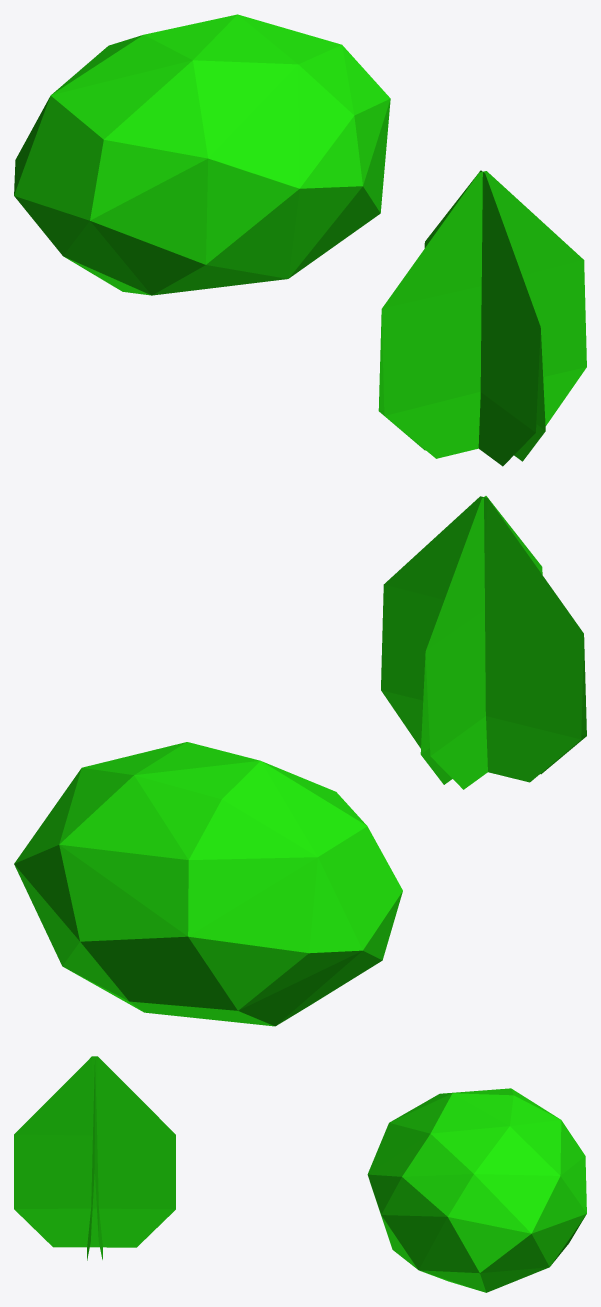
Rendered from buisson.fbx.
3 renders of one model, top to bottom at view 1: azimuth 30°, elevation 25°; view 2: azimuth 150°, elevation 25°; view 3: azimuth 270°, elevation 25°, orthographic. The views are drawn at different scales.
Visible parts, largest first — view 1: Sphere, Plane; view 2: Sphere, Plane; view 3: Sphere, Plane.
Boxes of the visible parts, x1,y1,x2,y2 form: Sphere: [14, 14, 390, 295]; Plane: [378, 170, 586, 466]; Sphere: [14, 742, 402, 1026]; Plane: [381, 496, 586, 789]; Sphere: [367, 1088, 586, 1292]; Plane: [14, 1056, 175, 1260].
Bounding box in the file's own units: 365 × 317 × 756.
